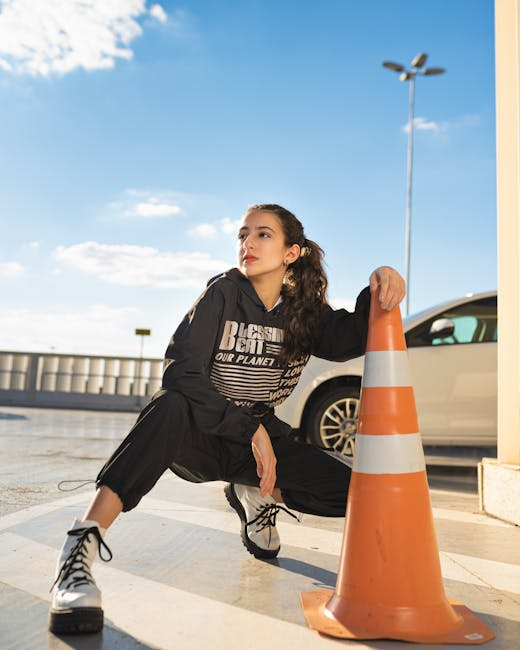traffic_cone: (299, 284, 496, 646)
